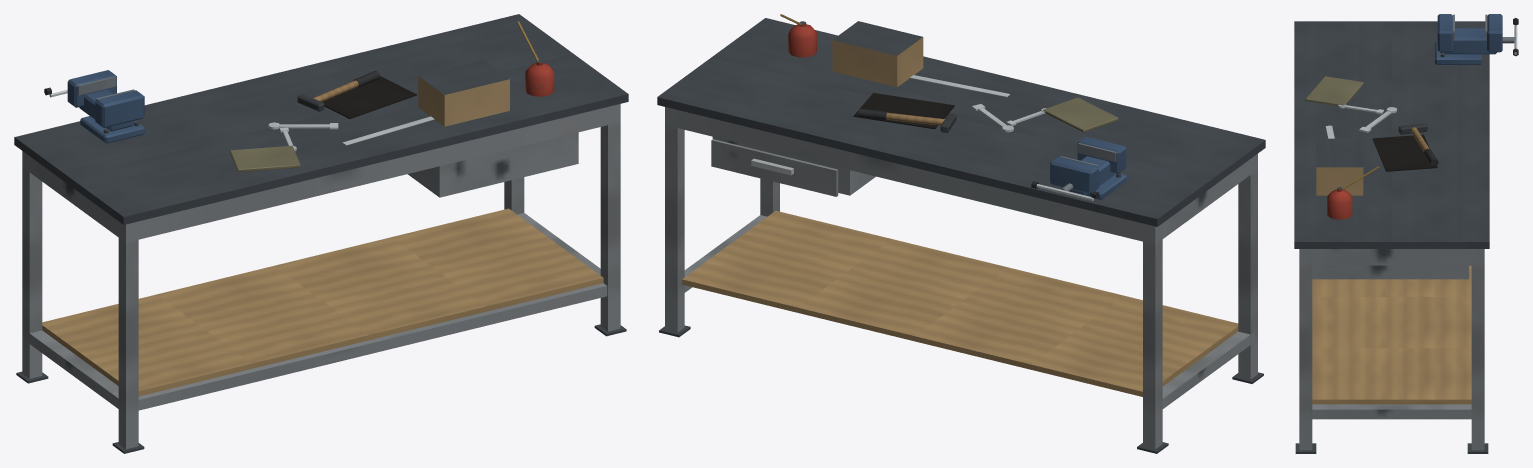
File: workbench.fbx
The picture shows the model from 3 angles, left to right: view 1: azimuth 30°, elevation 25°; view 2: azimuth 150°, elevation 25°; view 3: azimuth 270°, elevation 25°; orthographic projection. The views are drawn at different scales.
Parts seen in each view (by area): view 1: workbench, workbench_can, workbench_vice; view 2: workbench, workbench_can, workbench_vice; view 3: workbench, workbench_can, workbench_vice.
Part boxes in pixels (x1,y1,x2,y2): workbench: [14, 14, 628, 453]; workbench_can: [418, 21, 554, 126]; workbench_vice: [44, 70, 144, 143]; workbench: [657, 18, 1265, 453]; workbench_can: [780, 14, 923, 87]; workbench_vice: [1031, 137, 1126, 200]; workbench: [1294, 21, 1489, 453]; workbench_can: [1316, 138, 1379, 219]; workbench_vice: [1435, 14, 1518, 64].
Size of the model in its own units: 2 by 1.1 by 0.8613.
1 material, 1 textured.
